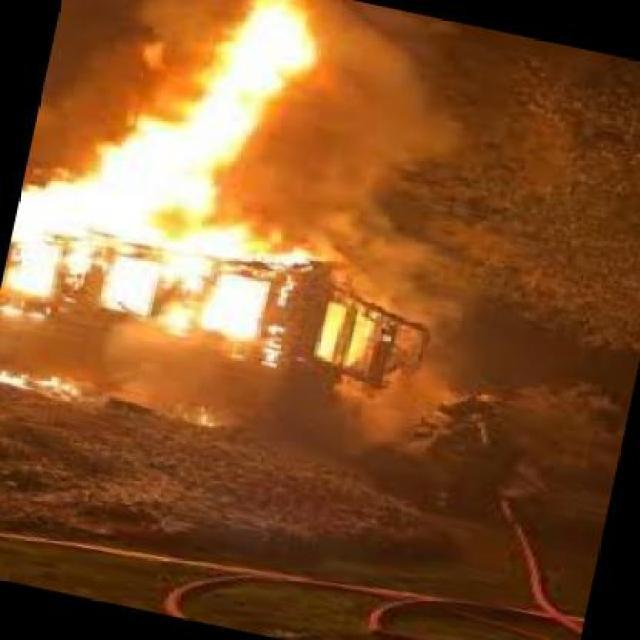Fire: (0, 209, 300, 342), (32, 129, 216, 217), (203, 1, 310, 152)
Smoke: (314, 14, 468, 272), (84, 0, 189, 113)
